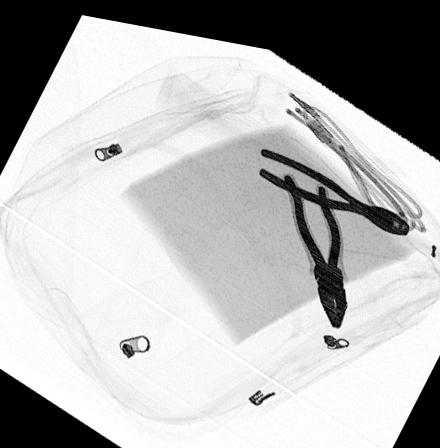Pliers: (258, 137, 410, 222), (280, 160, 349, 317)
